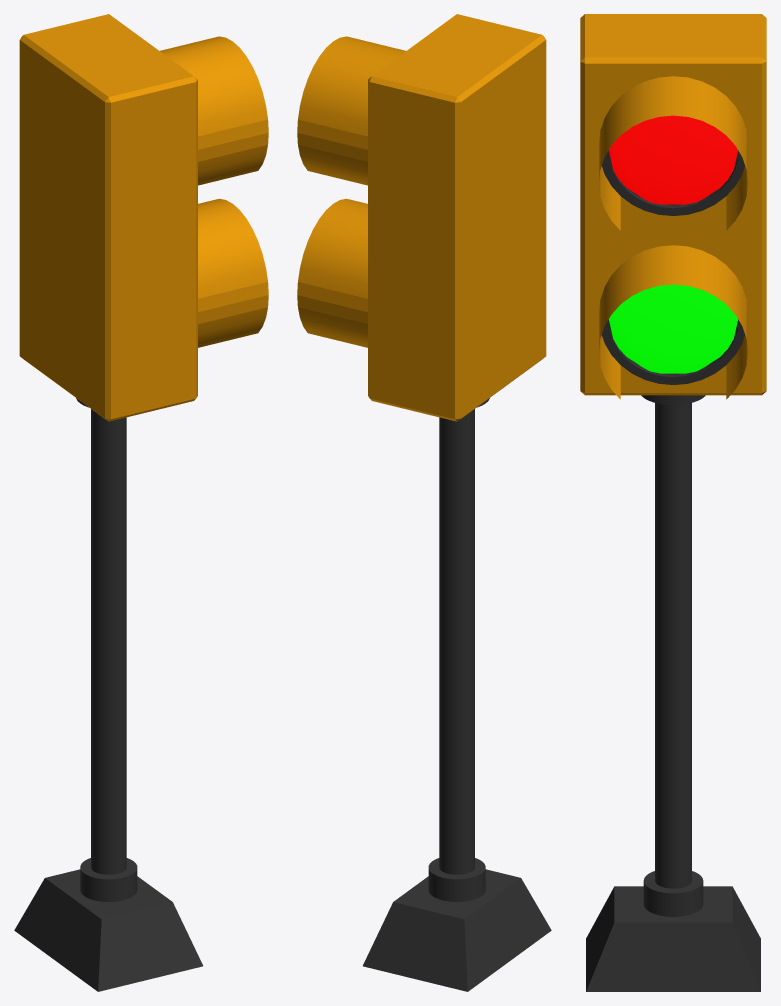
The model's file is trafficlight.glb.
3 renders of one model, left to right at view 1: azimuth 30°, elevation 25°; view 2: azimuth 150°, elevation 25°; view 3: azimuth 270°, elevation 25°, orthographic. The views are drawn at different scales.
Parts seen in each view (by area): view 1: trafficlight; view 2: trafficlight; view 3: trafficlight, redlight, greenlight.
Boxes of the visible parts, box(x1,y1,x2,y2) form: trafficlight: box(14, 14, 268, 991); trafficlight: box(297, 14, 551, 991); trafficlight: box(580, 14, 766, 991); redlight: box(609, 115, 737, 204); greenlight: box(609, 284, 737, 373).
Bounding box in the file's own units: 2.28 × 11 × 2.
